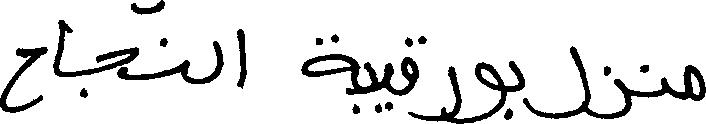X: (526, 41, 589, 123), (301, 29, 355, 118), (96, 0, 138, 84), (0, 42, 46, 117), (463, 57, 505, 123), (591, 61, 630, 123), (430, 61, 461, 123), (403, 32, 419, 123), (509, 56, 524, 123), (686, 60, 705, 105), (364, 57, 377, 117), (55, 15, 64, 81), (383, 58, 393, 115), (238, 24, 246, 93), (214, 36, 222, 83), (181, 55, 190, 87), (661, 72, 669, 100)
